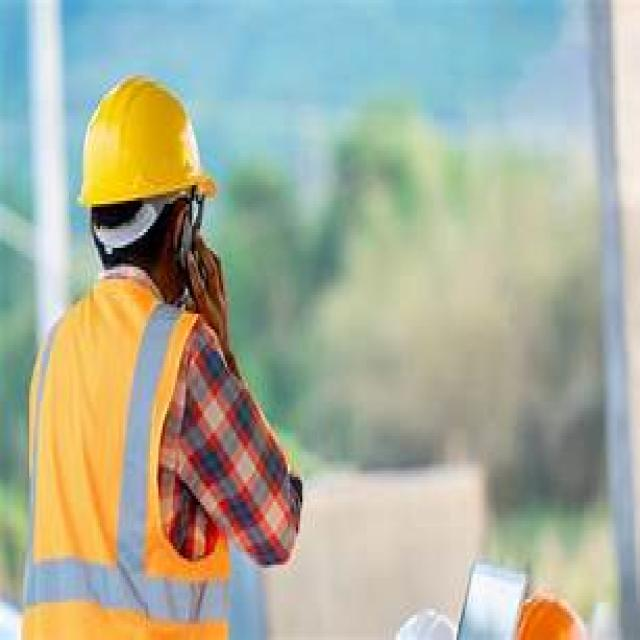not-gloved: (187, 246, 235, 340)
